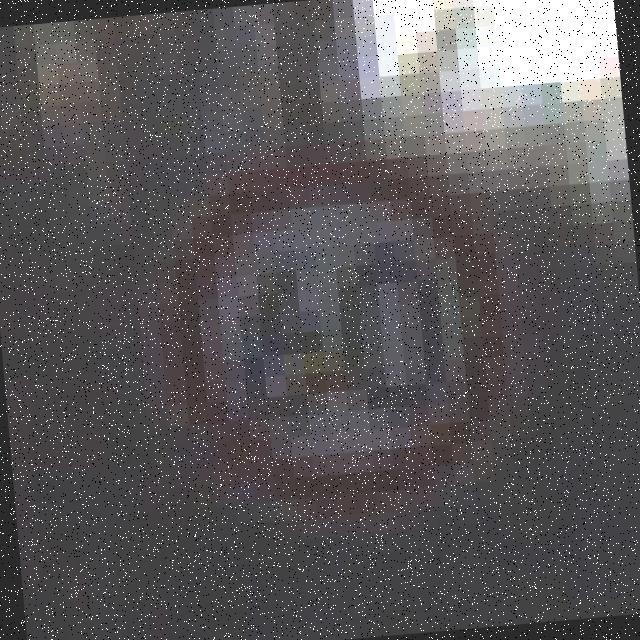Ograniczenie predkosci do 60: (153, 146, 512, 512)
